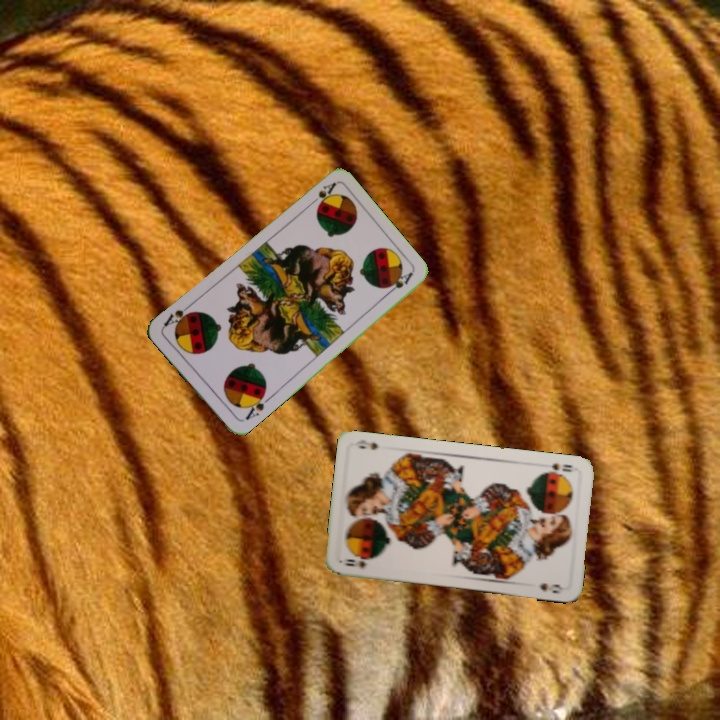SA: (304, 178, 338, 211), (241, 389, 272, 423)
SO: (539, 459, 574, 477), (340, 555, 369, 571)
